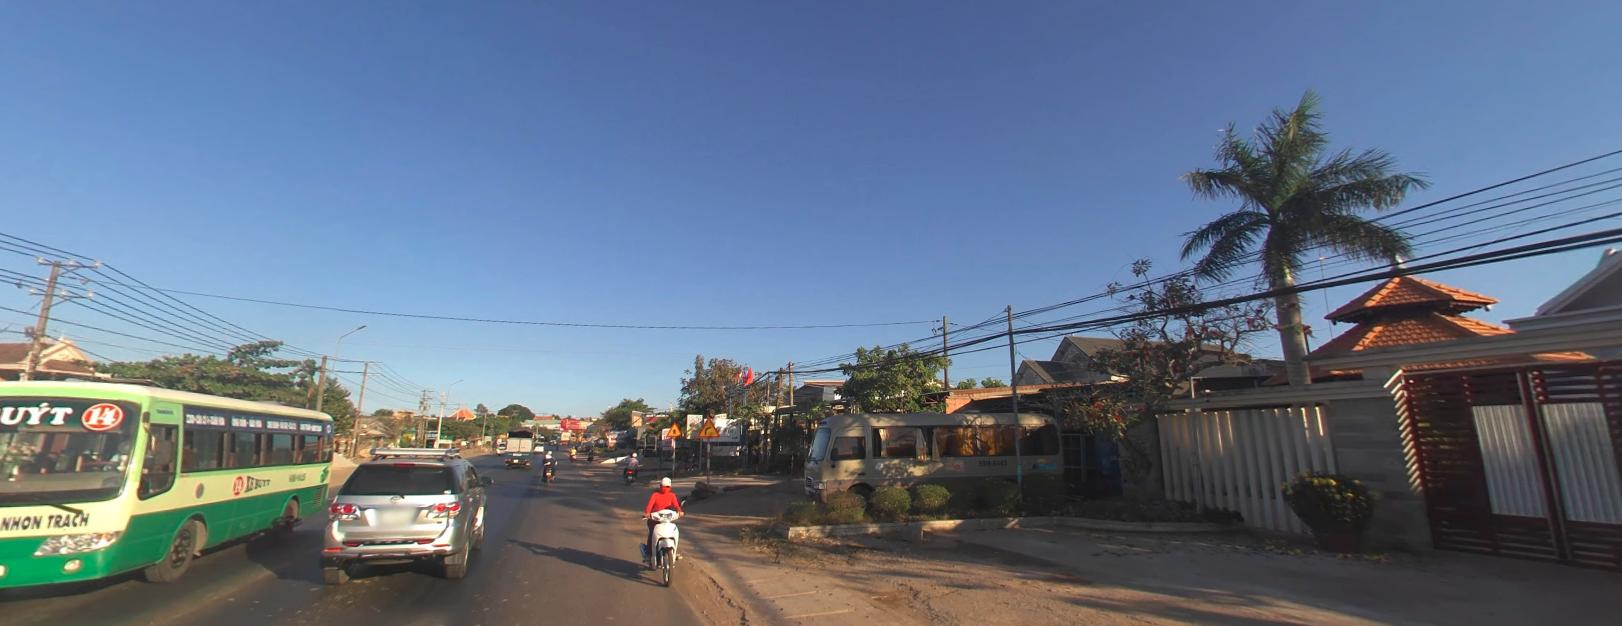Nguy hiem: (698, 415, 721, 436), (666, 420, 683, 436)
